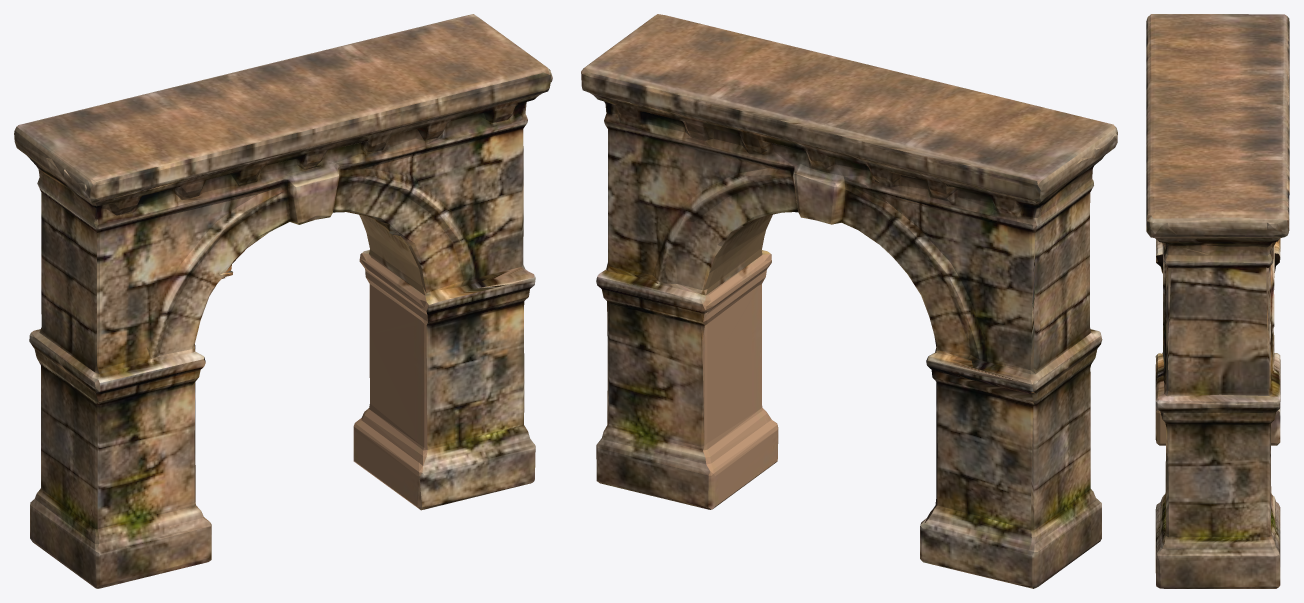
File: arena_arch_1117.glb
3 renders of one model, left to right at view 1: azimuth 30°, elevation 25°; view 2: azimuth 150°, elevation 25°; view 3: azimuth 270°, elevation 25°, orthographic. The views are drawn at different scales.
Parts seen in each view (by area): view 1: tmpfi2c82q4.ply; view 2: tmpfi2c82q4.ply; view 3: tmpfi2c82q4.ply.
Part boxes in pixels (bbox=[...]): tmpfi2c82q4.ply: bbox=[14, 14, 552, 588]; tmpfi2c82q4.ply: bbox=[581, 14, 1117, 588]; tmpfi2c82q4.ply: bbox=[1146, 14, 1289, 588].
Bounding box in the file's own units: 1.17 × 0.9993 × 0.343.
Materials: 1 (1 with a texture image).
